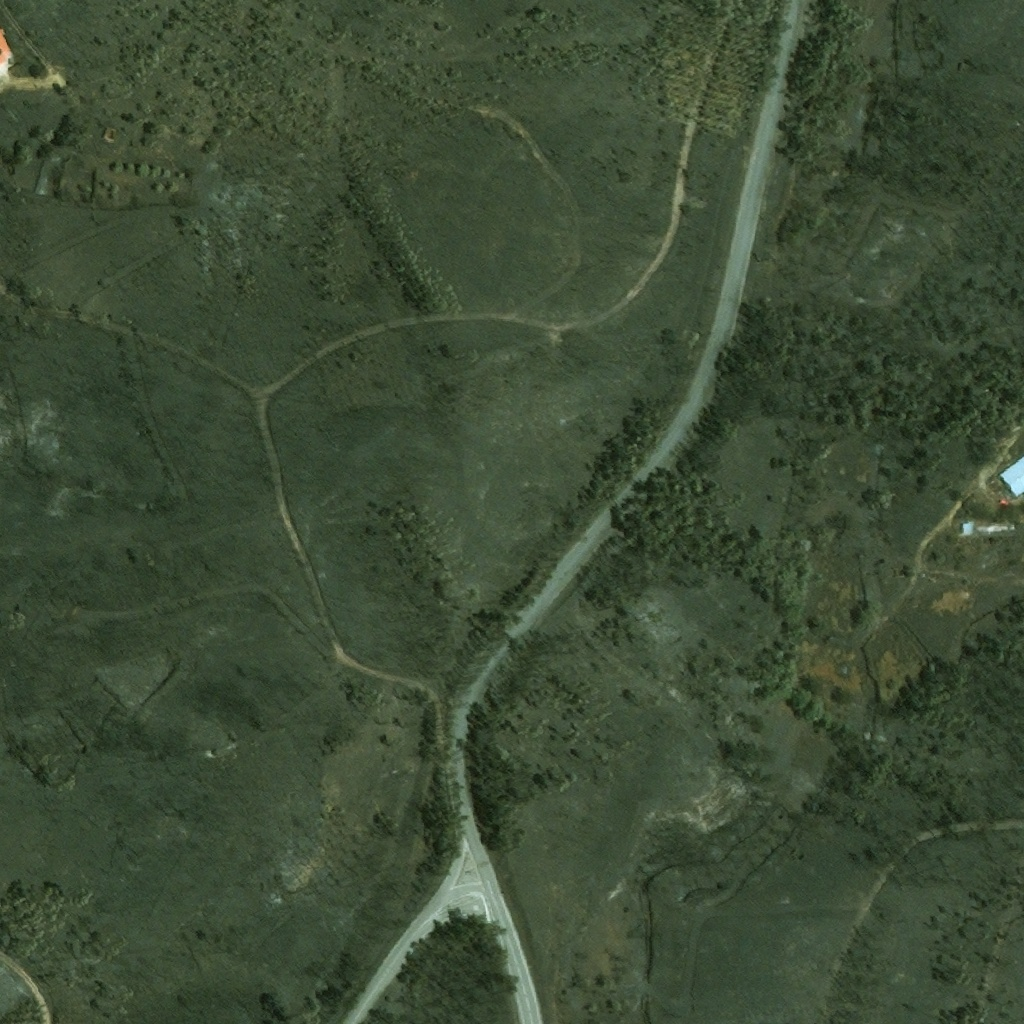0 no-damage: (998, 457, 1023, 498), (961, 520, 973, 534)
3 destroyed: (100, 127, 115, 145), (69, 602, 79, 616)
4 un-classified: (0, 29, 12, 62)
